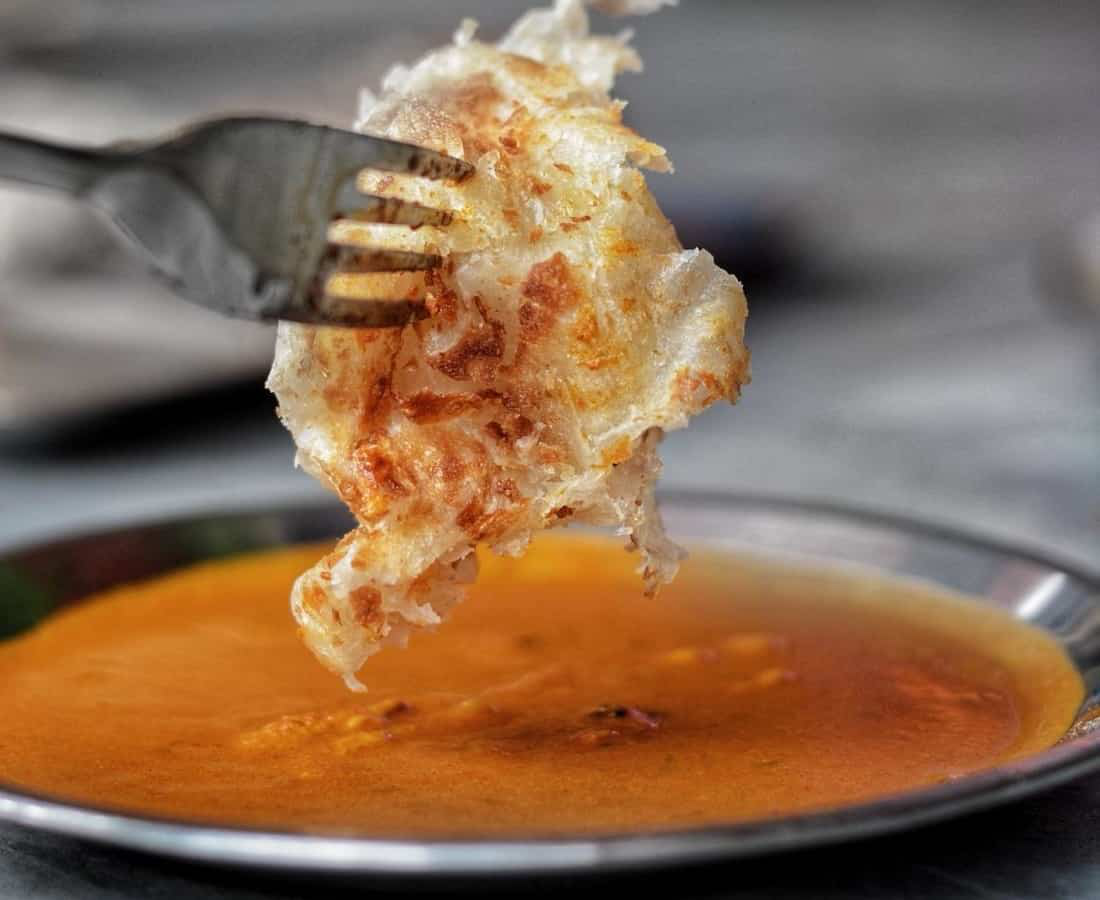Prata: (262, 49, 732, 617)
